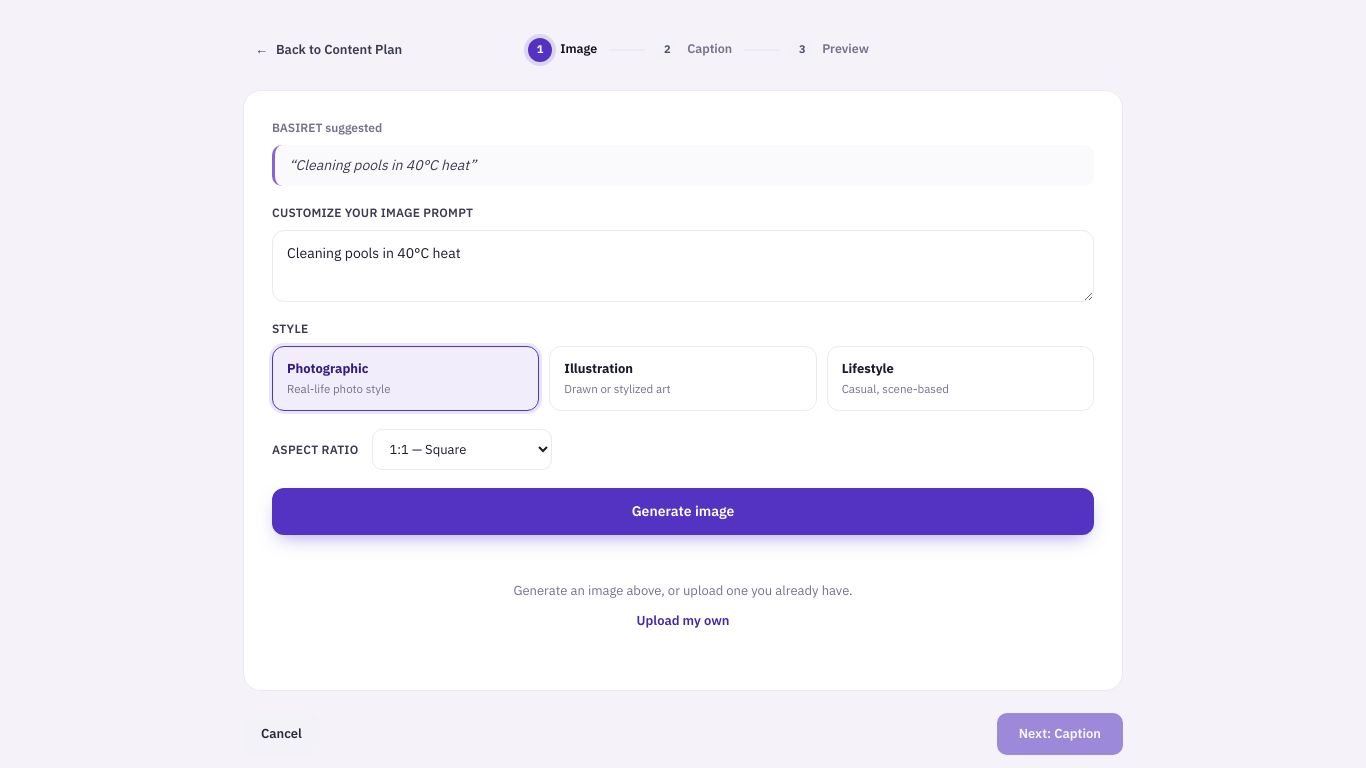
it: WizardPreviewStep — render + schedule controls › renders the StepPreview block, date input, and time input
Click the button with test id "image-generate": (683, 512) 272,488 -> 1094,535
(page scrolled)
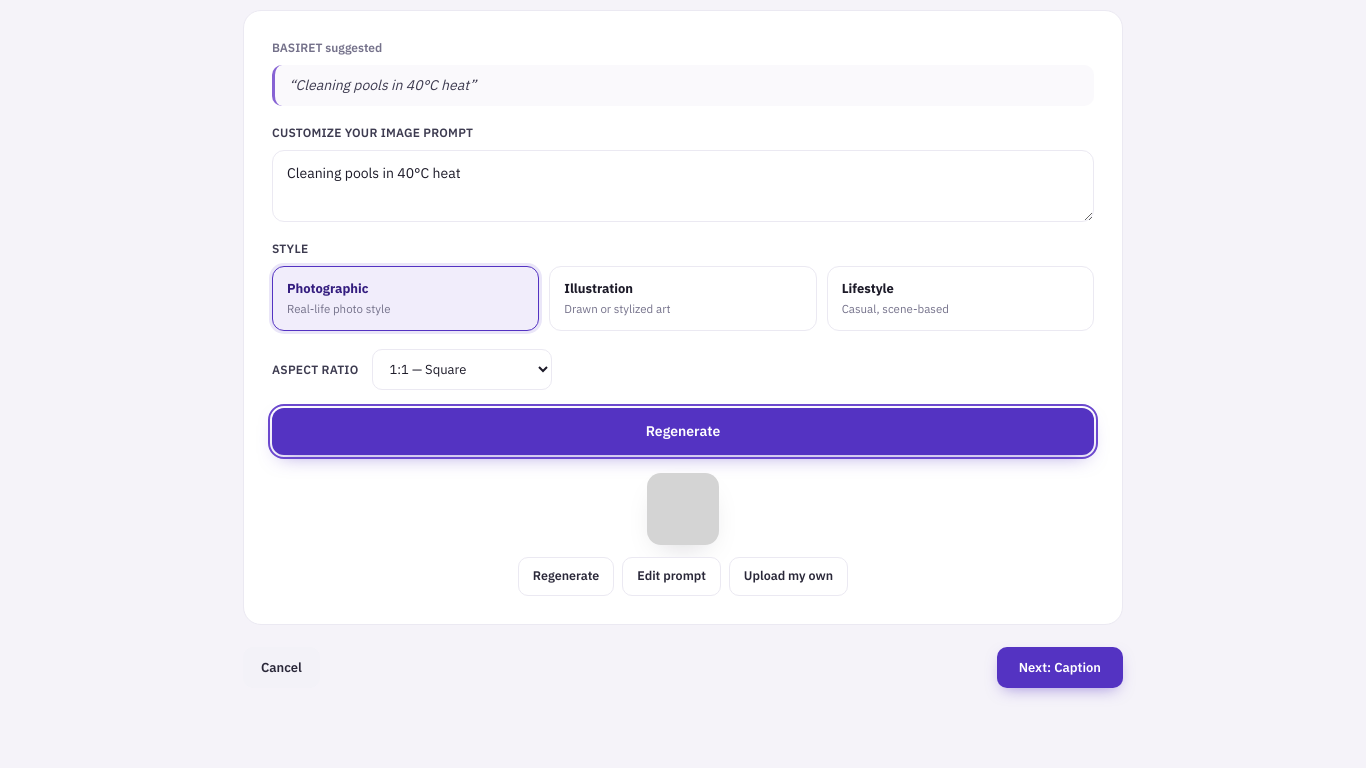
Click the button with test id "wizard-next": (1060, 668) 997,647 -> 1123,688
(page scrolled)
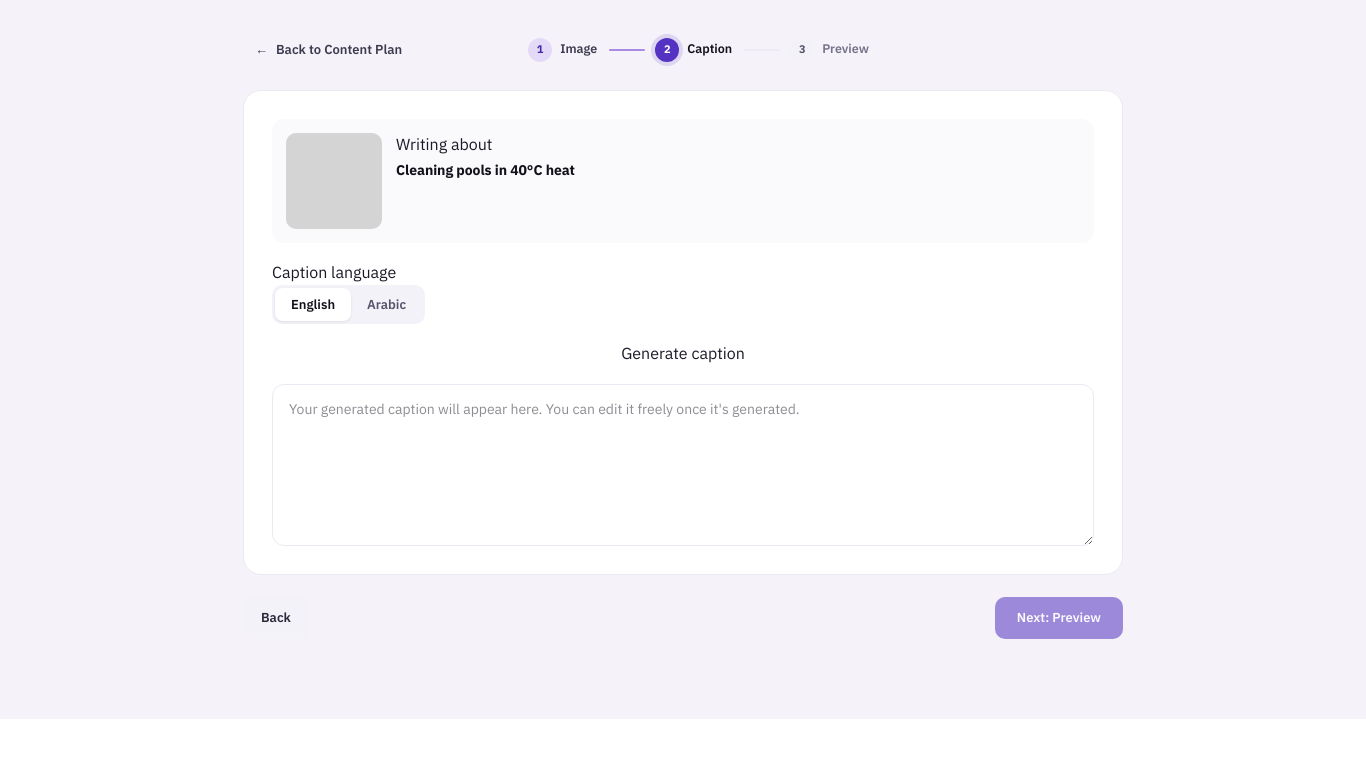
Click the button with test id "caption-generate": (683, 354) 272,342 -> 1094,366
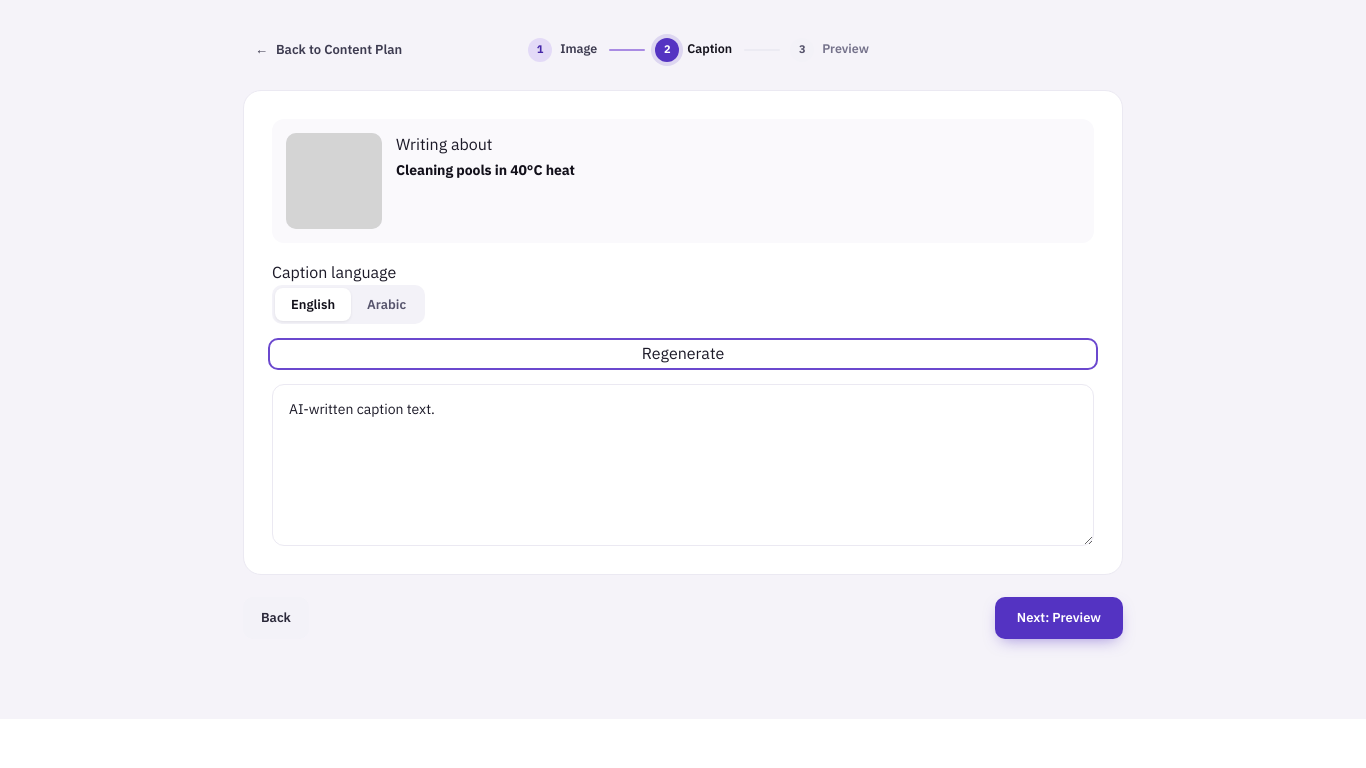
Click the button with test id "wizard-next": (1059, 618) 995,597 -> 1123,638
(page scrolled)
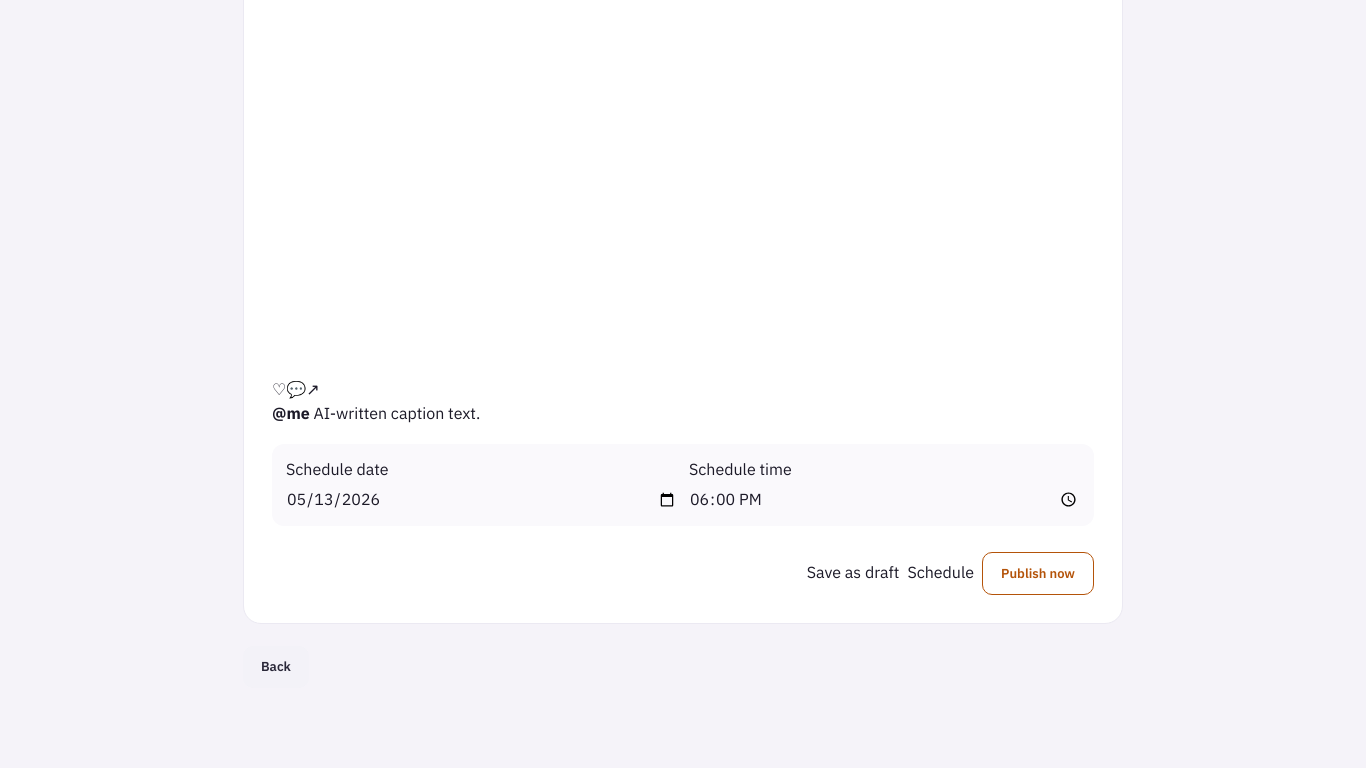
Expected: the date field with test id "preview-date" is shown, 286,488 -> 677,512
Expected: the time field with test id "preview-time" is shown, 689,488 -> 1080,512
